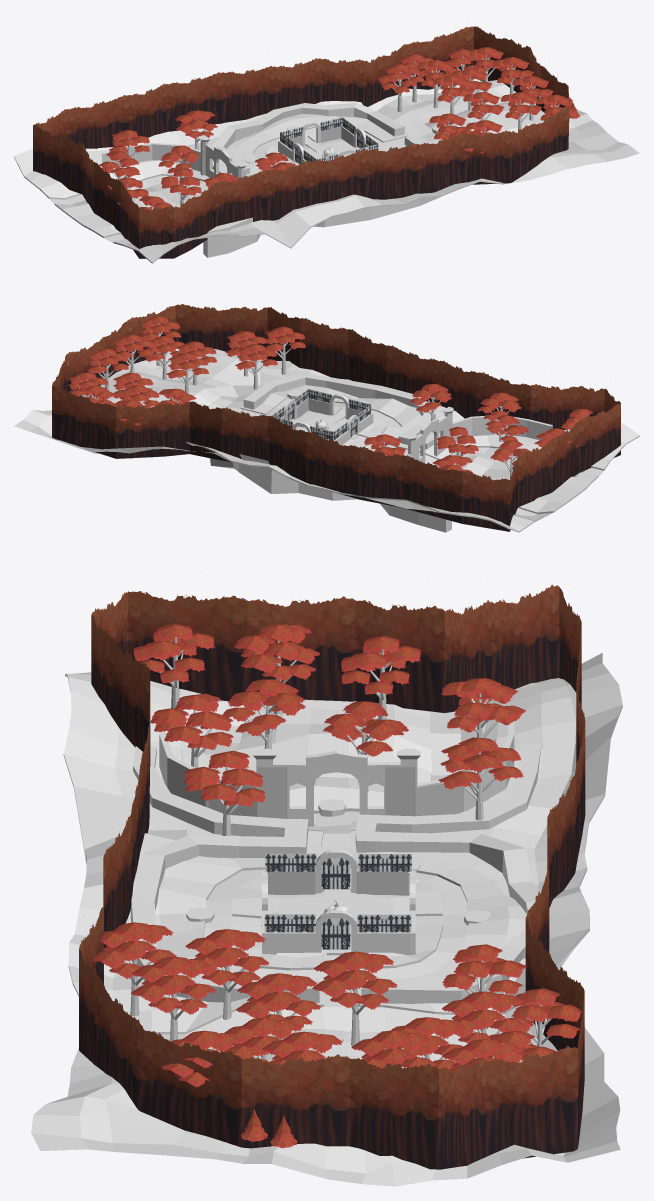
The model's file is Witches_Garden.fbx.
3 views of the same model, one above another, from view 1: azimuth 30°, elevation 25°; view 2: azimuth 150°, elevation 25°; view 3: azimuth 270°, elevation 25° (orthographic). The views are drawn at different scales.
Parts seen in each view (by area): view 1: Plane.009, ground_trailer.004, ground_trailer.003, Cube.013, ground_trailer.005, Cube.012, Plane.012, Plane.050, Plane.131, Plane.124, Plane.055, Plane.057 (+18 smaller); view 2: Plane.009, ground_trailer.003, Cube.013, ground_trailer.004, ground_trailer.005, Cube.012, Plane.012, Cube.014, Plane.123, Plane.122, Plane.055, Plane.058 (+18 smaller); view 3: Plane.009, ground_trailer.004, ground_trailer.003, Cube.013, ground_trailer.005, Cube.012, Plane.133, Cube.014, Plane.012, Plane.055, Plane.061, Plane.123 (+24 smaller).
Boxes of the visible parts, bbox=[...] form: Plane.009: bbox=[33, 26, 569, 258]; ground_trailer.004: bbox=[14, 101, 503, 263]; ground_trailer.003: bbox=[49, 78, 639, 242]; Cube.013: bbox=[203, 102, 440, 257]; ground_trailer.005: bbox=[40, 160, 209, 245]; Cube.012: bbox=[102, 135, 246, 181]; Plane.012: bbox=[280, 117, 378, 161]; Plane.050: bbox=[378, 64, 420, 112]; Plane.131: bbox=[175, 110, 217, 149]; Plane.124: bbox=[161, 168, 201, 206]; Plane.055: bbox=[433, 75, 474, 113]; Plane.057: bbox=[501, 92, 541, 129]; Plane.009: bbox=[52, 304, 620, 531]; ground_trailer.003: bbox=[14, 348, 603, 517]; Cube.013: bbox=[209, 373, 451, 532]; ground_trailer.004: bbox=[186, 361, 639, 532]; ground_trailer.005: bbox=[425, 435, 610, 521]; Cube.012: bbox=[406, 406, 552, 463]; Plane.012: bbox=[271, 389, 371, 440]; Cube.014: bbox=[280, 394, 373, 445]; Plane.123: bbox=[235, 344, 277, 389]; Plane.122: bbox=[264, 326, 305, 374]; Plane.055: bbox=[166, 352, 208, 394]; Plane.058: bbox=[86, 348, 128, 390]; Plane.009: bbox=[79, 584, 585, 1169]; ground_trailer.004: bbox=[63, 653, 622, 1034]; ground_trailer.003: bbox=[31, 676, 620, 1186]; Cube.013: bbox=[130, 743, 549, 1003]; ground_trailer.005: bbox=[180, 689, 500, 831]; Cube.012: bbox=[159, 721, 514, 826]; Plane.133: bbox=[209, 767, 463, 818]; Cube.014: bbox=[262, 850, 415, 954]; Plane.012: bbox=[264, 853, 411, 932]; Plane.055: bbox=[312, 951, 397, 1046]; Plane.061: bbox=[131, 956, 216, 1041]; Plane.123: bbox=[185, 929, 268, 1019].
Size of the model in its own units: 79561 by 13216 by 41031.
